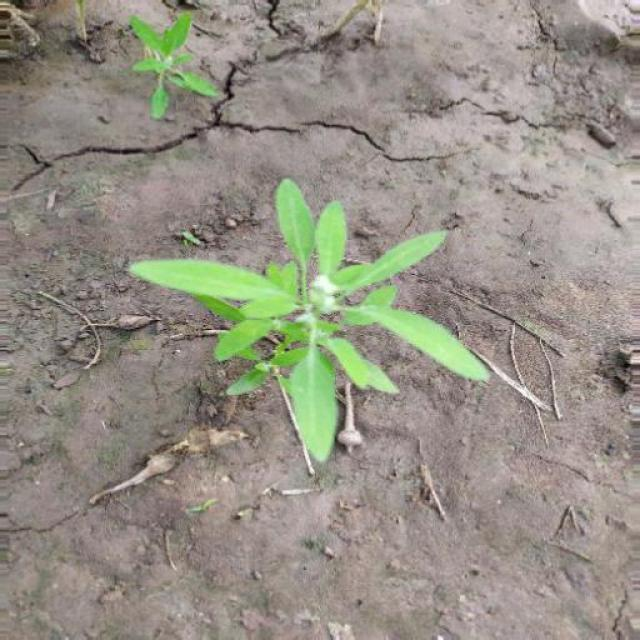weed: (112, 162, 502, 478), (116, 12, 219, 112)
